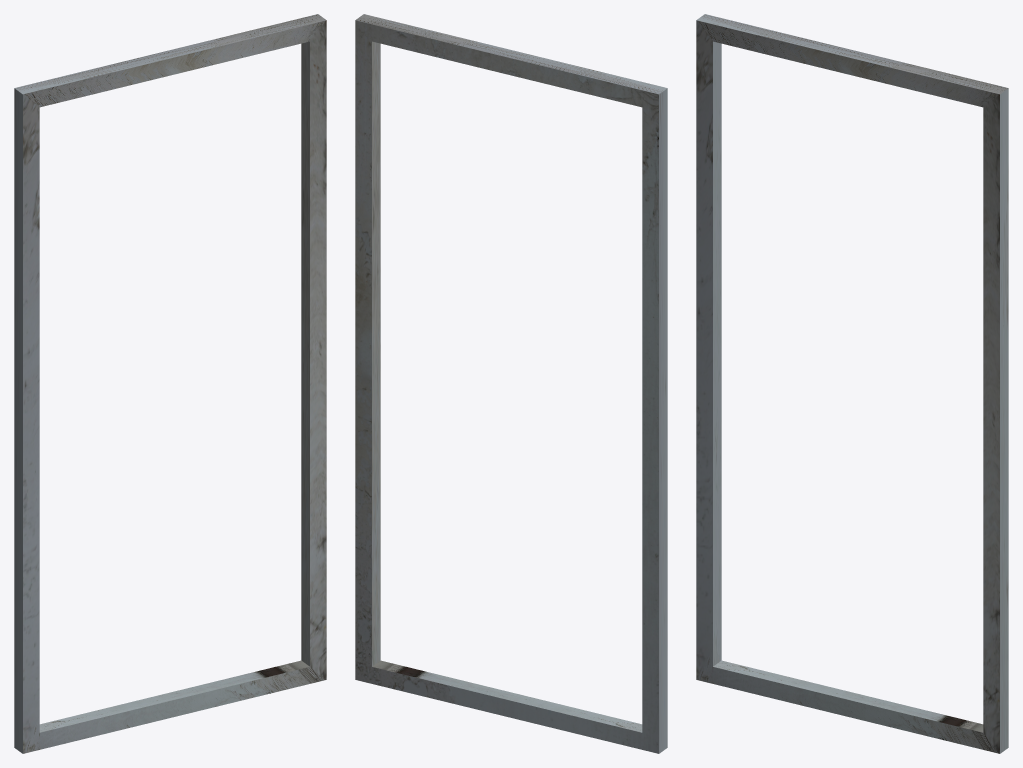
The model's file is DoorFrame.fbx.
3 renders of one model, left to right at view 1: azimuth 30°, elevation 25°; view 2: azimuth 150°, elevation 25°; view 3: azimuth 330°, elevation 25°, orthographic.
Visible parts, largest first — view 1: DoorFrame; view 2: DoorFrame; view 3: DoorFrame.
Boxes of the visible parts, x1,y1,x2,y2 form: DoorFrame: (14, 14, 326, 753); DoorFrame: (355, 14, 667, 753); DoorFrame: (696, 14, 1008, 753).
Bounding box in the file's own units: 244 × 506 × 11.98.
